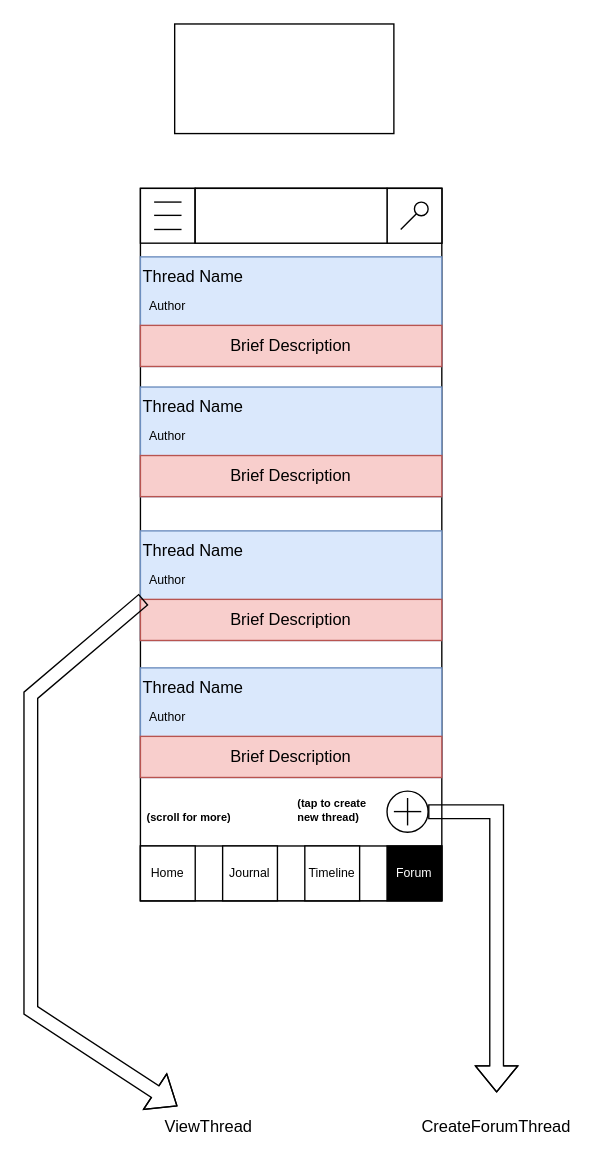
This 595x1171 diagram has some shape labels left out. Here are the shapes that lost their labels. From the top down, the centre of each, then its label:
At (283,78): "View Main Forum Page and Thread Listings".
At (290,215): "Chronical App".
